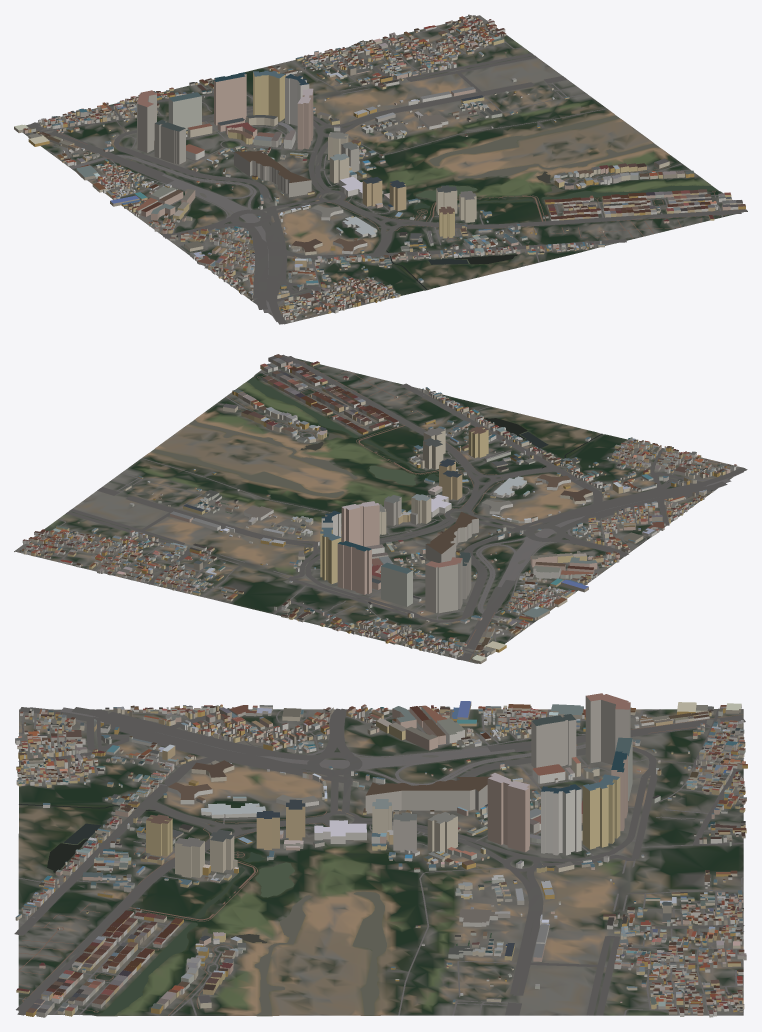
3 views of the same model, one above another, from view 1: azimuth 30°, elevation 25°; view 2: azimuth 150°, elevation 25°; view 3: azimuth 270°, elevation 25° (orthographic). The views are drawn at different scales.
Parts seen in each view (by area): view 1: ground, buildings, roads, water; view 2: ground, buildings, roads, water; view 3: ground, buildings, roads, water.
Boxes of the visible parts, bbox=[...] form: ground: bbox=[22, 15, 747, 324]; buildings: bbox=[14, 14, 745, 321]; roads: bbox=[24, 16, 747, 324]; water: bbox=[236, 113, 716, 289]; ground: bbox=[14, 356, 745, 663]; buildings: bbox=[19, 354, 737, 663]; roads: bbox=[17, 354, 747, 661]; water: bbox=[151, 377, 602, 513]; ground: bbox=[18, 709, 743, 1016]; buildings: bbox=[15, 693, 747, 1017]; roads: bbox=[14, 707, 745, 1015]; water: bbox=[19, 804, 491, 1015].
Size of the model in its own units: 1433 by 140 by 1420.
